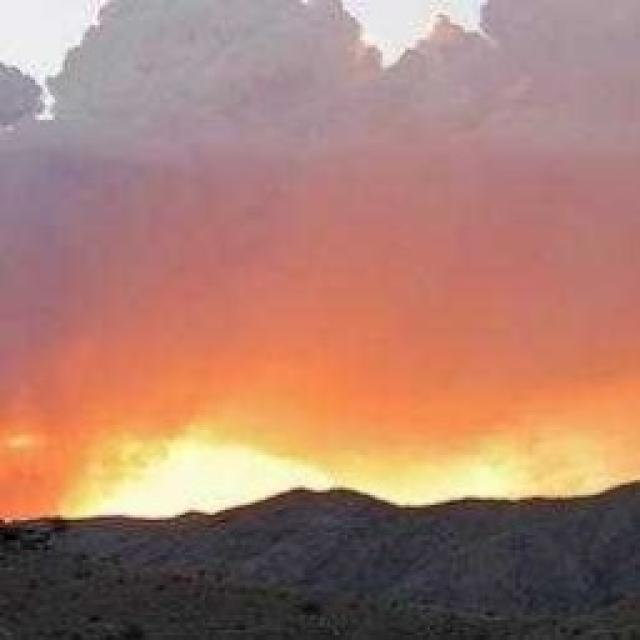Fire: (43, 415, 612, 531)
Smoke: (0, 15, 632, 313)
